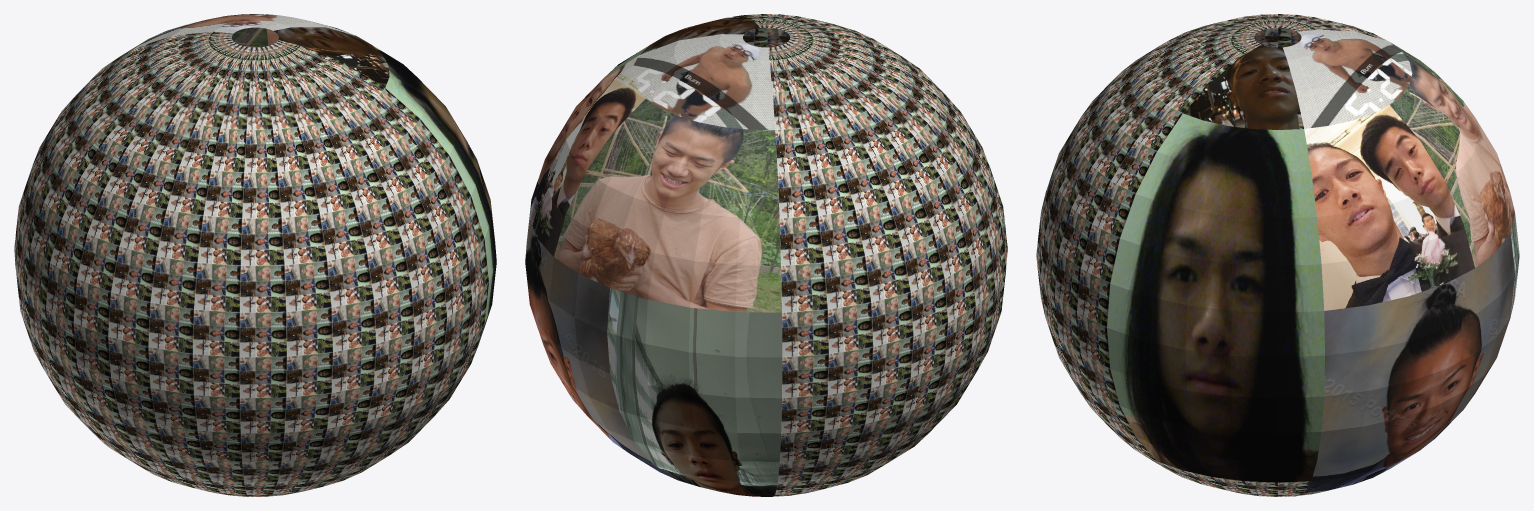
File: nonuniformCollage.dae
The picture shows the model from 3 angles, left to right: view 1: azimuth 30°, elevation 25°; view 2: azimuth 150°, elevation 25°; view 3: azimuth 270°, elevation 25°; orthographic projection.
Visible parts, largest first — view 1: Sphere; view 2: Sphere; view 3: Sphere.
Part boxes in pixels (x1,y1,x2,y2): Sphere: (14, 14, 496, 496); Sphere: (525, 14, 1007, 496); Sphere: (1036, 14, 1519, 496).
Bounding box in the file's own units: 2 × 2 × 1.99.
Materials: 1 (1 with a texture image).
